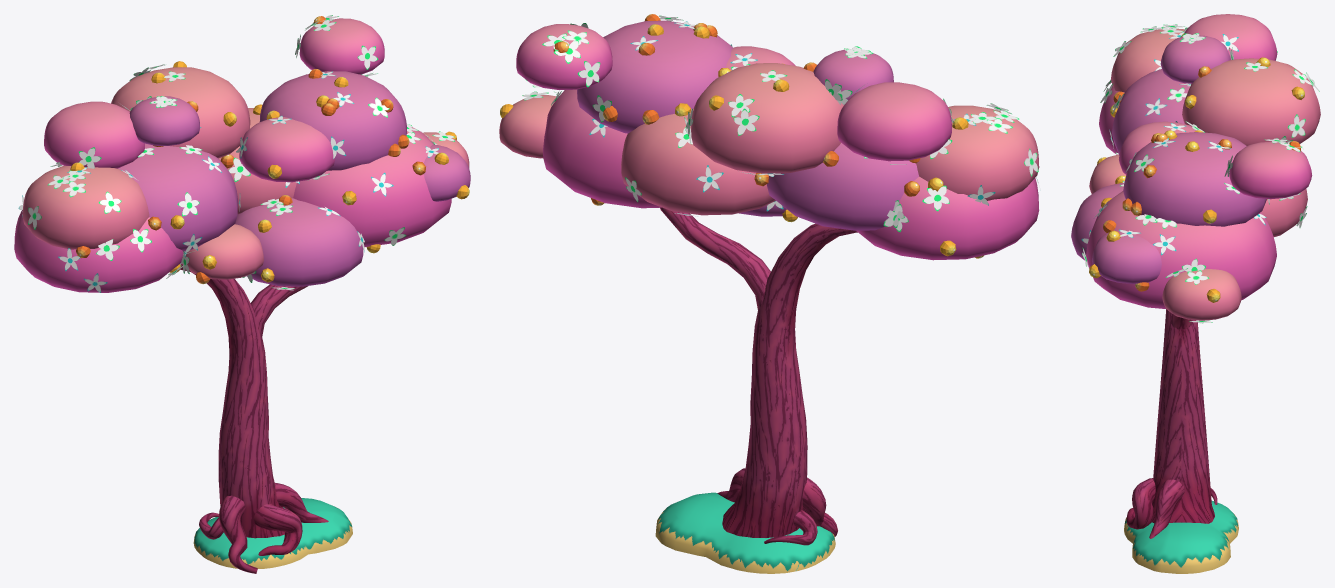
Rendered from WallTreeR.fbx.
The picture shows the model from 3 angles, left to right: view 1: azimuth 30°, elevation 25°; view 2: azimuth 150°, elevation 25°; view 3: azimuth 270°, elevation 25°; orthographic projection. The views are drawn at different scales.
Parts seen in each view (by area): view 1: waltreeRight; view 2: waltreeRight; view 3: waltreeRight.
Part boxes in pixels (bbox=[...]): waltreeRight: bbox=[14, 15, 470, 573]; waltreeRight: bbox=[499, 14, 1039, 573]; waltreeRight: bbox=[1071, 14, 1320, 573].
Bounding box in the file's own units: 18.08 × 17.89 × 8.84.
Materials: 1 (1 with a texture image).
